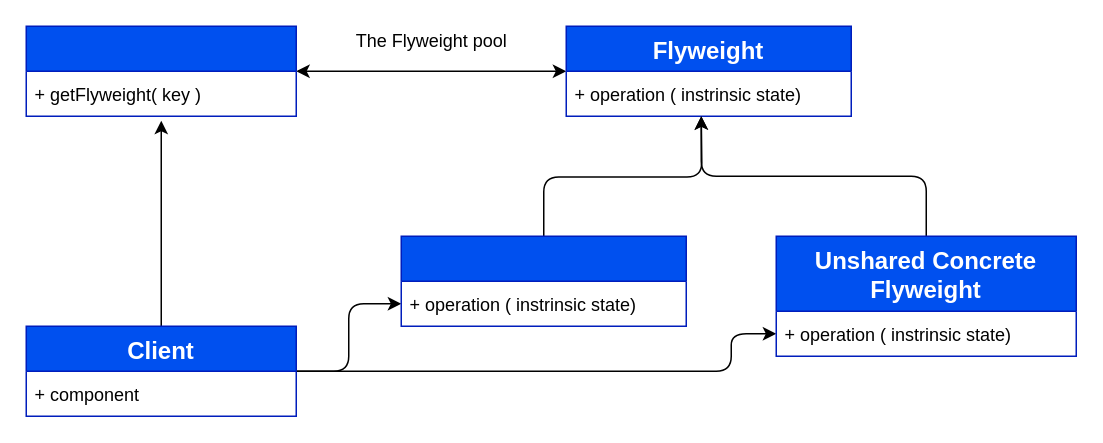
Some shapes in this 1103 by 443 pixel diagram are drawn without their labels. Each missing label, with the box of its shape:
Concrete Flyweight: (400, 235, 686, 326)
Flyweight Factory: (25, 25, 296, 116)
